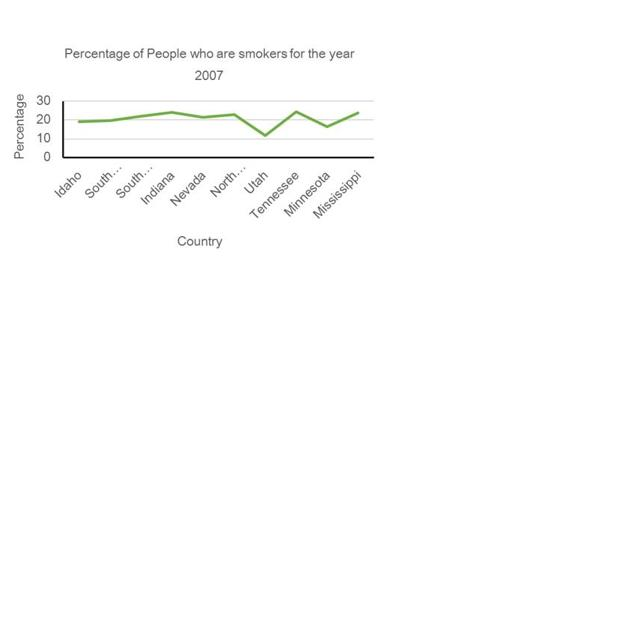Graph: (5, 38, 384, 258)
